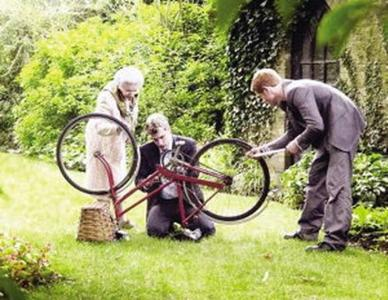person: (133, 114, 216, 238)
